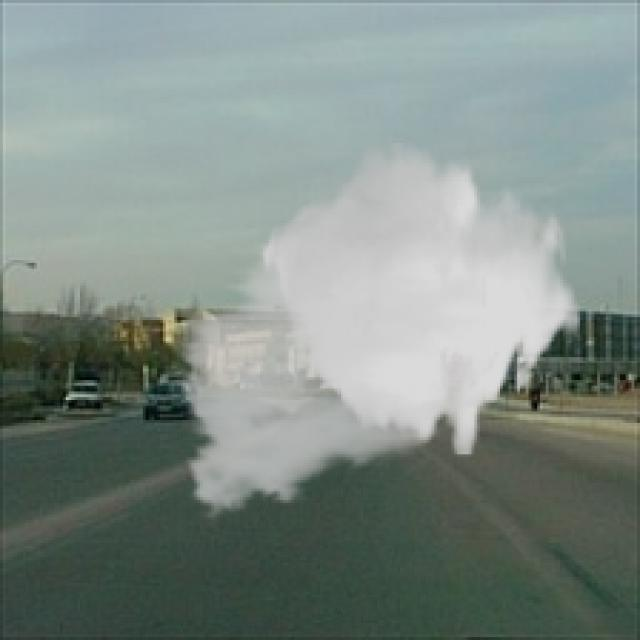smoke: (163, 143, 583, 528)
